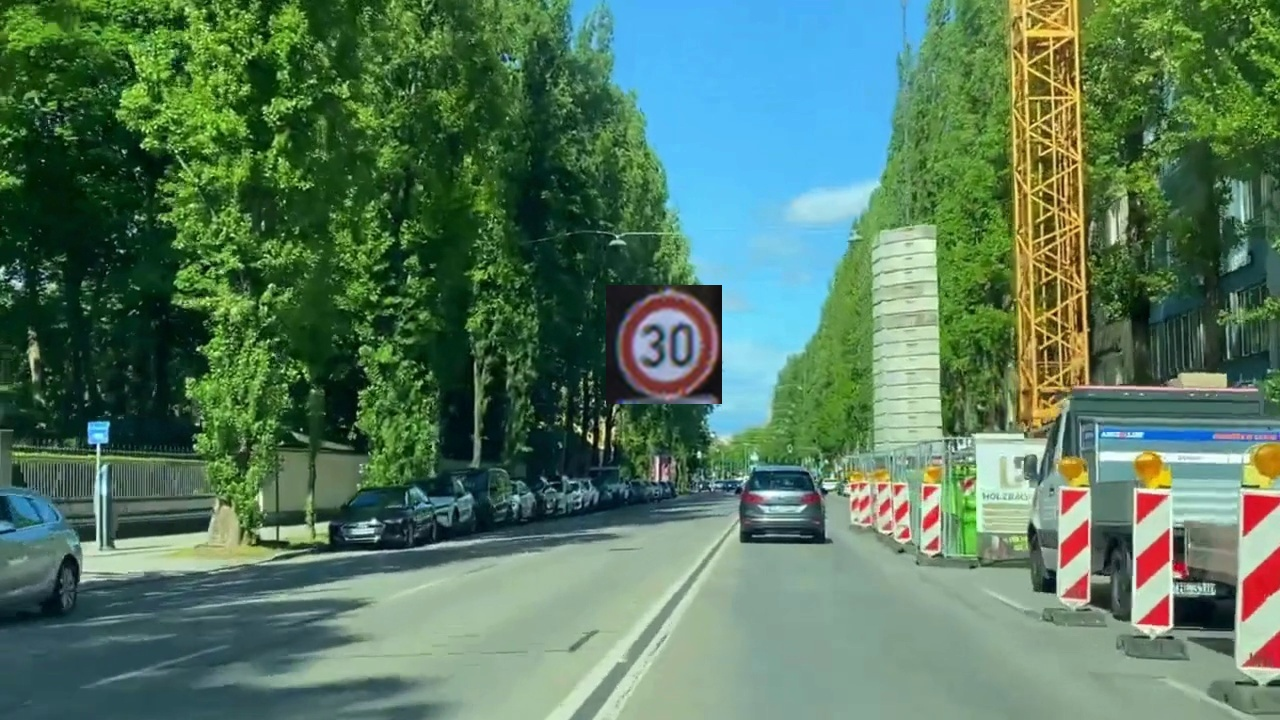Speed 30: (606, 285, 722, 404)
